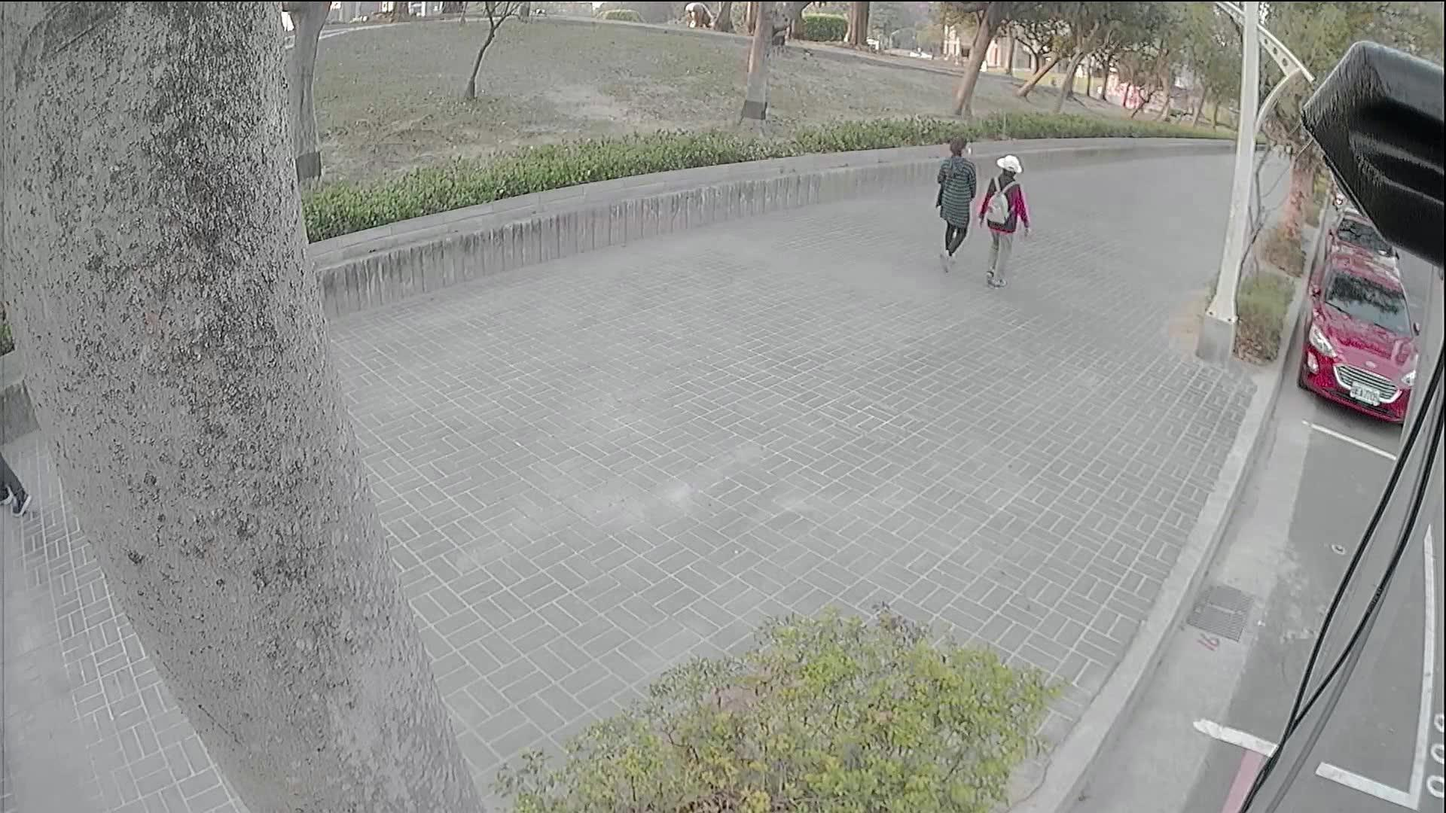person: (978, 155, 1027, 291), (932, 137, 974, 266)
